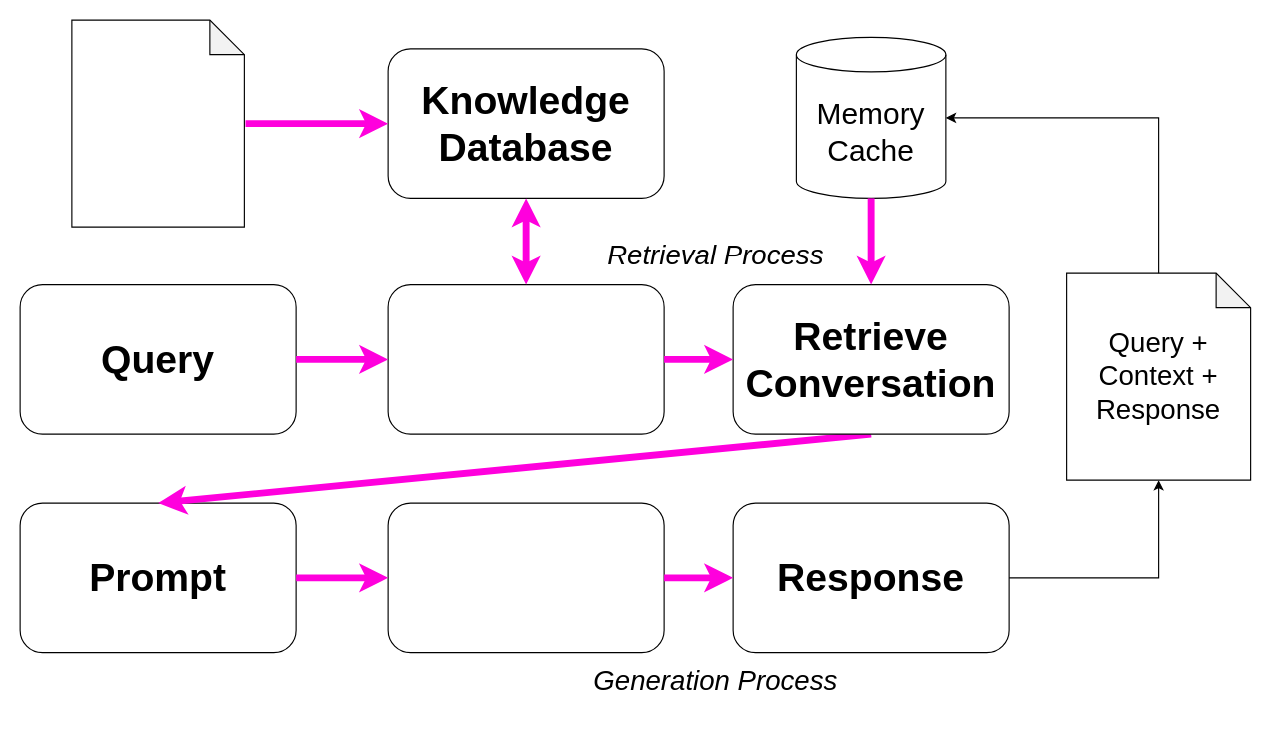
This 1271x730 diagram has some shape labels left out. The shapes that lost their labels are listed below. From the top down, each one's centre as x and y in pixels, then its label:
pixel 157 123: Document
pixel 525 358: Similarity Match
pixel 525 577: LLM
